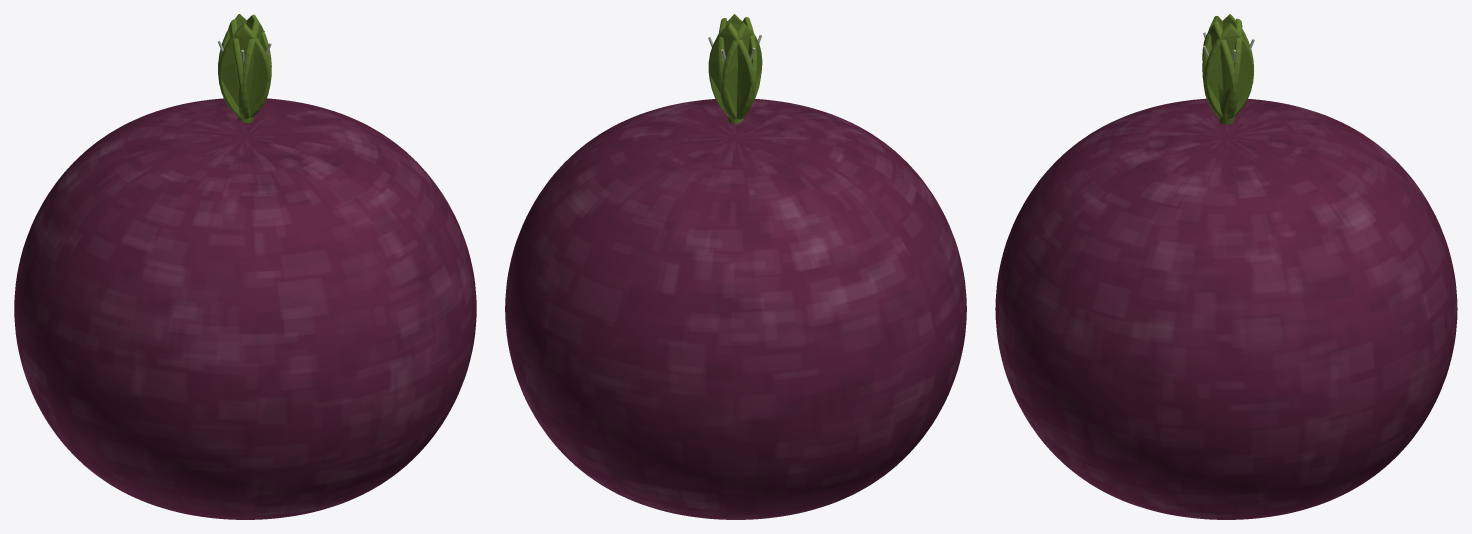
The model's file is mangosteen.glb.
3 views of the same model, side by side, from view 1: azimuth 30°, elevation 25°; view 2: azimuth 150°, elevation 25°; view 3: azimuth 270°, elevation 25° (orthographic).
Bounding box in the file's own units: 0.1539 × 0.1699 × 0.1539.
12 materials, 1 textured.
